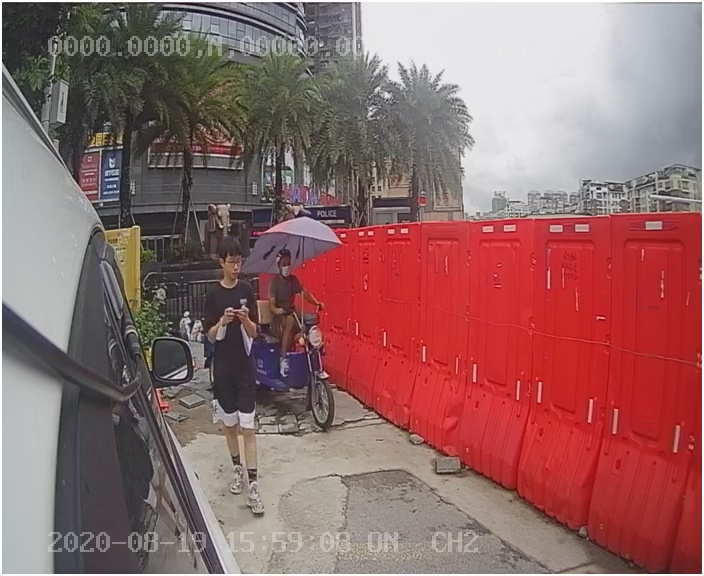person: (196, 228, 279, 514)
